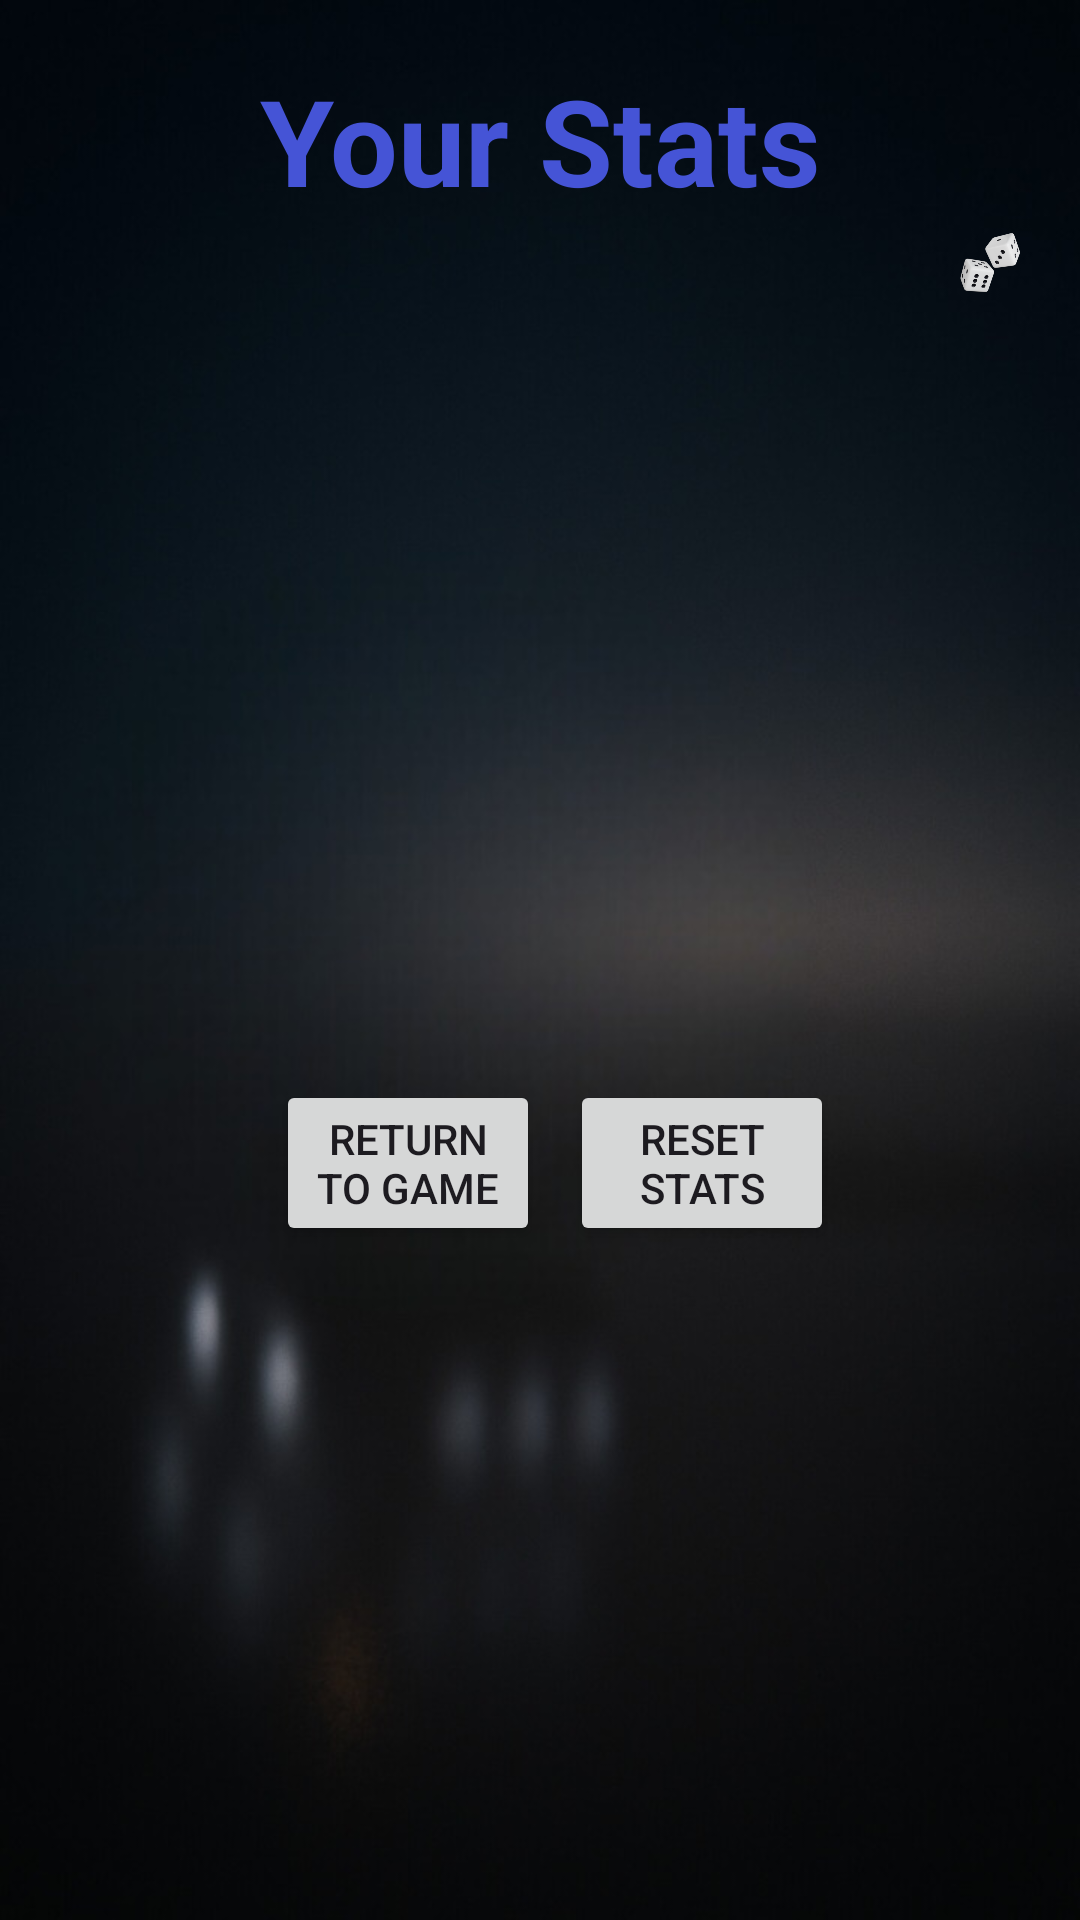

Point at icon controls on the screen. Image size 1080x1920, points as [x,y].
image of two dices: [990,262]
